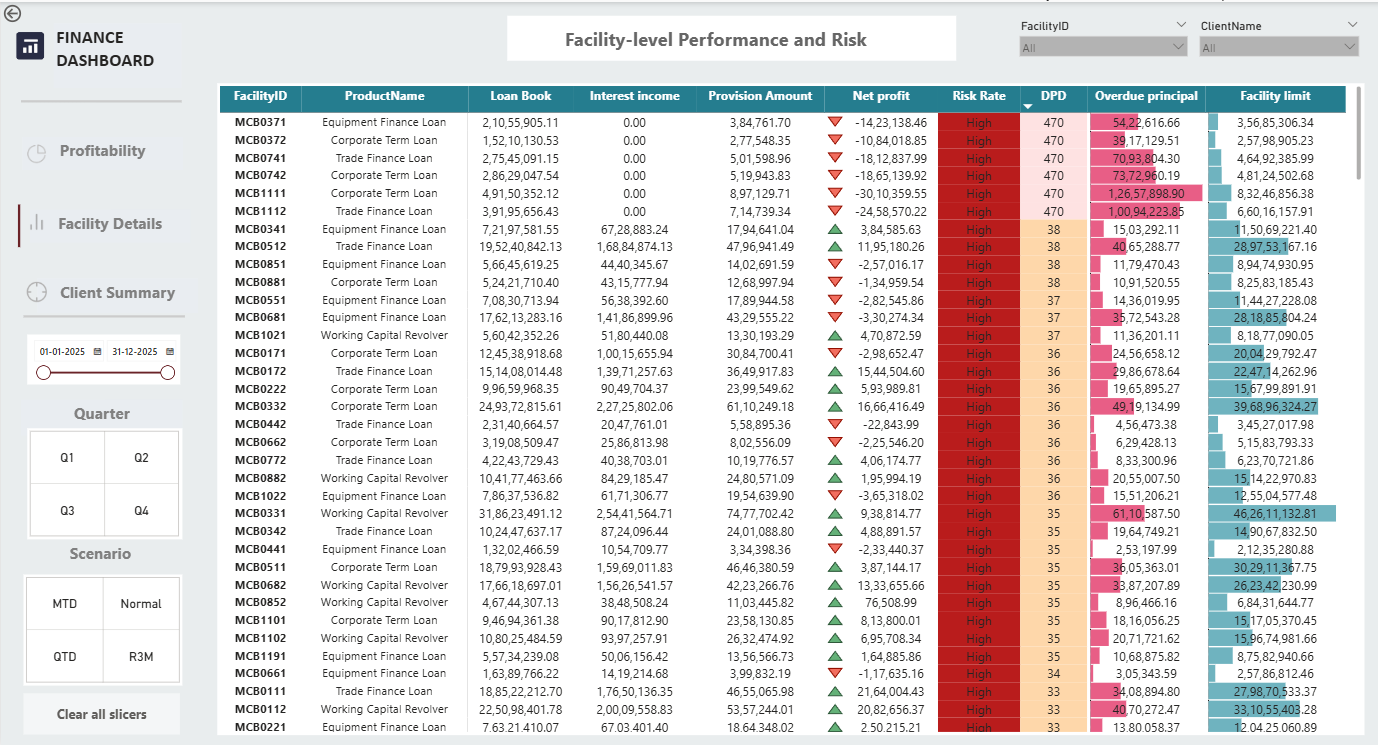

Layout of this report page (visuals, bound fields, positions):
{"tool":"powerbi","page":{"name":"Facility Details","canvas":[2400,1300],"ordinal":1},"visuals":[{"type":"image","box":[0,24,102,105],"z":0},{"type":"textbox","box":[92,37,223,113],"z":1000},{"type":"shape","box":[34,141,280,63],"z":2000},{"type":"shape","box":[39.2,516.7,281.3,63.2],"z":3000},{"type":"textbox","box":[37.8,235.8,280.3,57.8],"z":4000},{"type":"textbox","box":[51.2,362.6,280.3,57.8],"z":5000},{"type":"textbox","box":[62.3,480.5,280.3,60.1],"z":6000},{"type":"image","box":[0,202.4,124.6,124.6],"z":7000},{"type":"image","box":[0,327,124.6,111.2],"z":8000},{"type":"image","box":[0,453.8,124.6,102.3],"z":9000},{"type":"shape","box":[0,353.5,63,74.3],"z":10000},{"type":"advancedSlicerVisual","fields":{"Values":["Calculation group.Time period"]},"box":[38.3,996.7,277.2,193.8],"z":11000},{"type":"textbox","box":[33.8,935.9,277.2,60.8],"z":12000},{"type":"textbox","box":[33.8,692.5,281.7,63.1],"z":13000},{"type":"advancedSlicerVisual","fields":{"Values":["Dim_date.Quarter"]},"box":[45.1,742.1,270.4,193.8],"z":14000},{"type":"shape","box":[883,24,782.7,78.5],"z":15000},{"type":"textbox","box":[978.9,37.1,547.2,76.3],"z":16000},{"type":"slicer","fields":{"Values":["Fact_Banking_Monthly.FacilityID"]},"box":[1763.8,24,314,78.5],"z":17000},{"type":"slicer","fields":{"Values":["Dim_Client.ClientName"]},"box":[2077.8,24,298.7,78.5],"z":18000},{"type":"pivotTable","fields":{"Rows":["Fact_Banking_Monthly.FacilityID","Dim_Product.ProductName"],"Values":["Z_measures.Loan Book 1","Z_measures.Interest income","Z_measures.Provision Amount","Z_measures.Net profit","Z_measures.Current Risk Rate","Z_measures.Current Days past due","Z_measures.Current overdue principal","Z_measures.Current facility limit"]},"box":[376.3,142,1998.9,1135.8],"z":19000},{"type":"slicer","fields":{"Values":["Dim_date.Date"]},"box":[45.1,579.8,265.9,85.6],"z":20000},{"type":"actionButton","box":[0,0,100,40],"z":21000},{"type":"actionButton","box":[39.2,1205.7,272.5,71.9],"z":21001}]}

Visuals, with their boxes on the page's 2400x1300 design canvas (x1, y1, x2, y2). These are canvas units, not pixel positions in the 1378x745 screenshot, which may show the page scaled, cropped or inside an application window:
image: box=[0, 24, 102, 129]
textbox: box=[92, 37, 315, 150]
shape: box=[34, 141, 314, 204]
shape: box=[39, 517, 320, 580]
textbox: box=[38, 236, 318, 294]
textbox: box=[51, 363, 332, 420]
textbox: box=[62, 480, 343, 541]
image: box=[0, 202, 125, 327]
image: box=[0, 327, 125, 438]
image: box=[0, 454, 125, 556]
shape: box=[0, 354, 63, 428]
advancedSlicerVisual - Calculation group.Time period: box=[38, 997, 316, 1190]
textbox: box=[34, 936, 311, 997]
textbox: box=[34, 692, 316, 756]
advancedSlicerVisual - Dim_date.Quarter: box=[45, 742, 316, 936]
shape: box=[883, 24, 1666, 102]
textbox: box=[979, 37, 1526, 113]
slicer - Fact_Banking_Monthly.FacilityID: box=[1764, 24, 2078, 102]
slicer - Dim_Client.ClientName: box=[2078, 24, 2376, 102]
pivotTable - Fact_Banking_Monthly.FacilityID x Dim_Product.ProductName: box=[376, 142, 2375, 1278]
slicer - Dim_date.Date: box=[45, 580, 311, 665]
actionButton: box=[0, 0, 100, 40]
actionButton: box=[39, 1206, 312, 1278]
